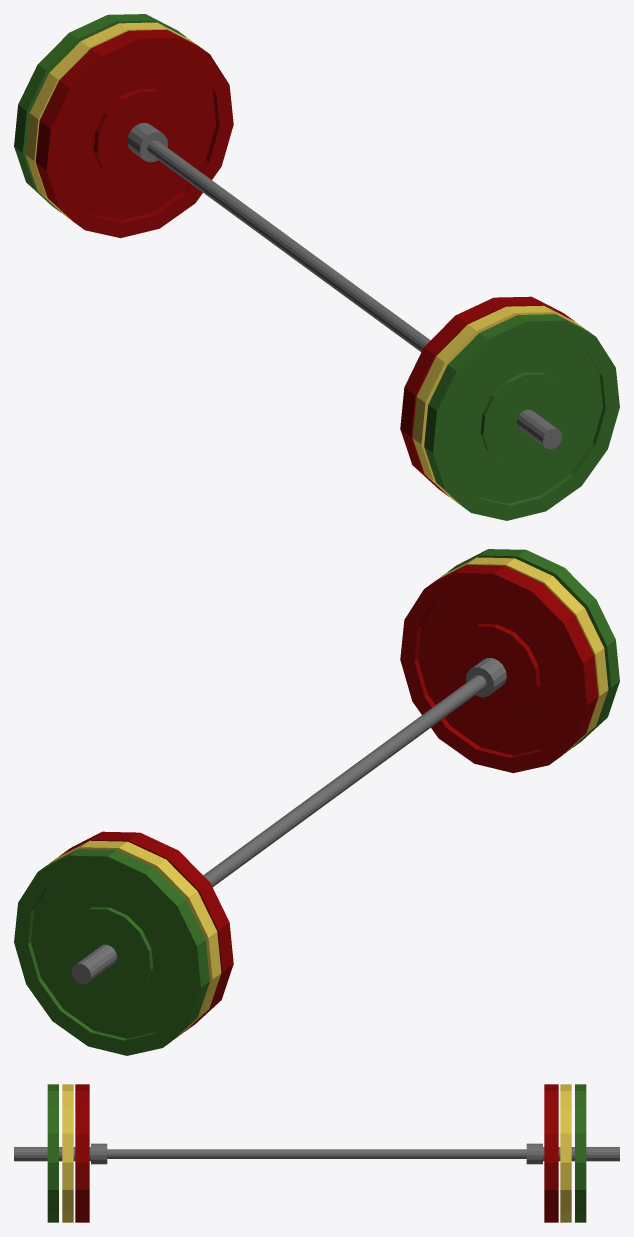
The model's file is Barbell.002.fbx.
The picture shows the model from 3 angles, top to bottom: view 1: azimuth 30°, elevation 25°; view 2: azimuth 150°, elevation 25°; view 3: azimuth 270°, elevation 25°; orthographic projection. The views are drawn at different scales.
Parts seen in each view (by area): view 1: Barbell.002; view 2: Barbell.002; view 3: Barbell.002.
Part boxes in pixels (x1,y1,x2,y2): Barbell.002: (14, 14, 619, 520); Barbell.002: (14, 549, 619, 1055); Barbell.002: (14, 1084, 619, 1222).
Size of the model in its own units: 44.52 by 44.28 by 194.
